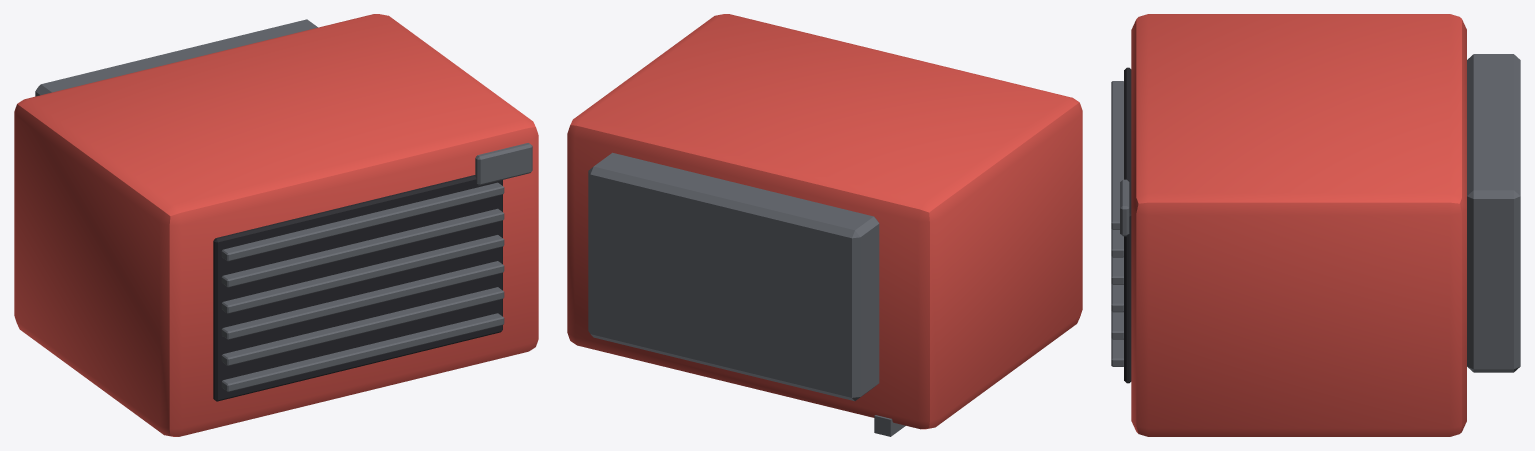
Rendered from AC_WindowUnit.fbx.
3 views of the same model, side by side, from view 1: azimuth 30°, elevation 25°; view 2: azimuth 150°, elevation 25°; view 3: azimuth 270°, elevation 25° (orthographic). The views are drawn at different scales.
Visible parts, largest first — view 1: AC_WindowUnit; view 2: AC_WindowUnit; view 3: AC_WindowUnit.
Part boxes in pixels (x1,y1,x2,y2): AC_WindowUnit: [14, 14, 538, 436]; AC_WindowUnit: [567, 14, 1082, 436]; AC_WindowUnit: [1111, 14, 1520, 436].
Size of the model in its own units: 0.68 by 0.415 by 0.61.
